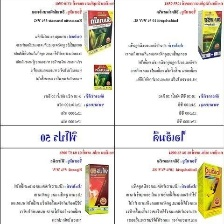book: (81, 6, 117, 57)
carton: (83, 160, 113, 217), (195, 161, 223, 220), (195, 7, 223, 64)
insecticide: (91, 61, 113, 93)
